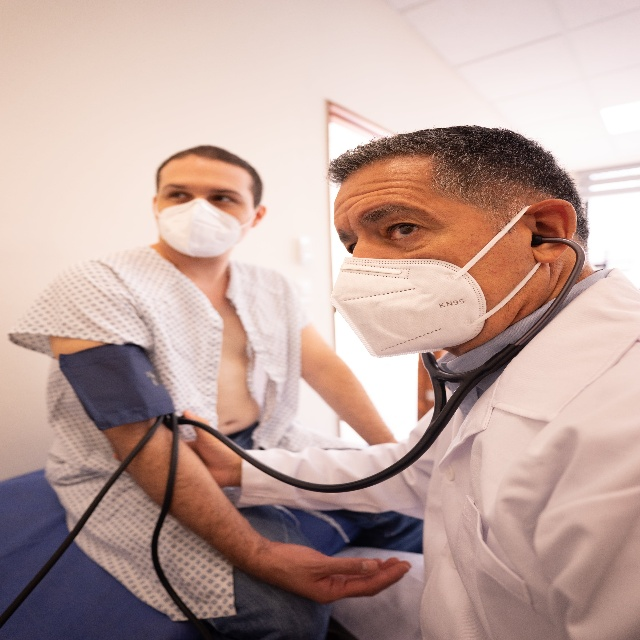Mascara: (331, 205, 540, 363), (157, 199, 255, 259)
Sin_guantes: (265, 542, 412, 604), (182, 409, 232, 488)
